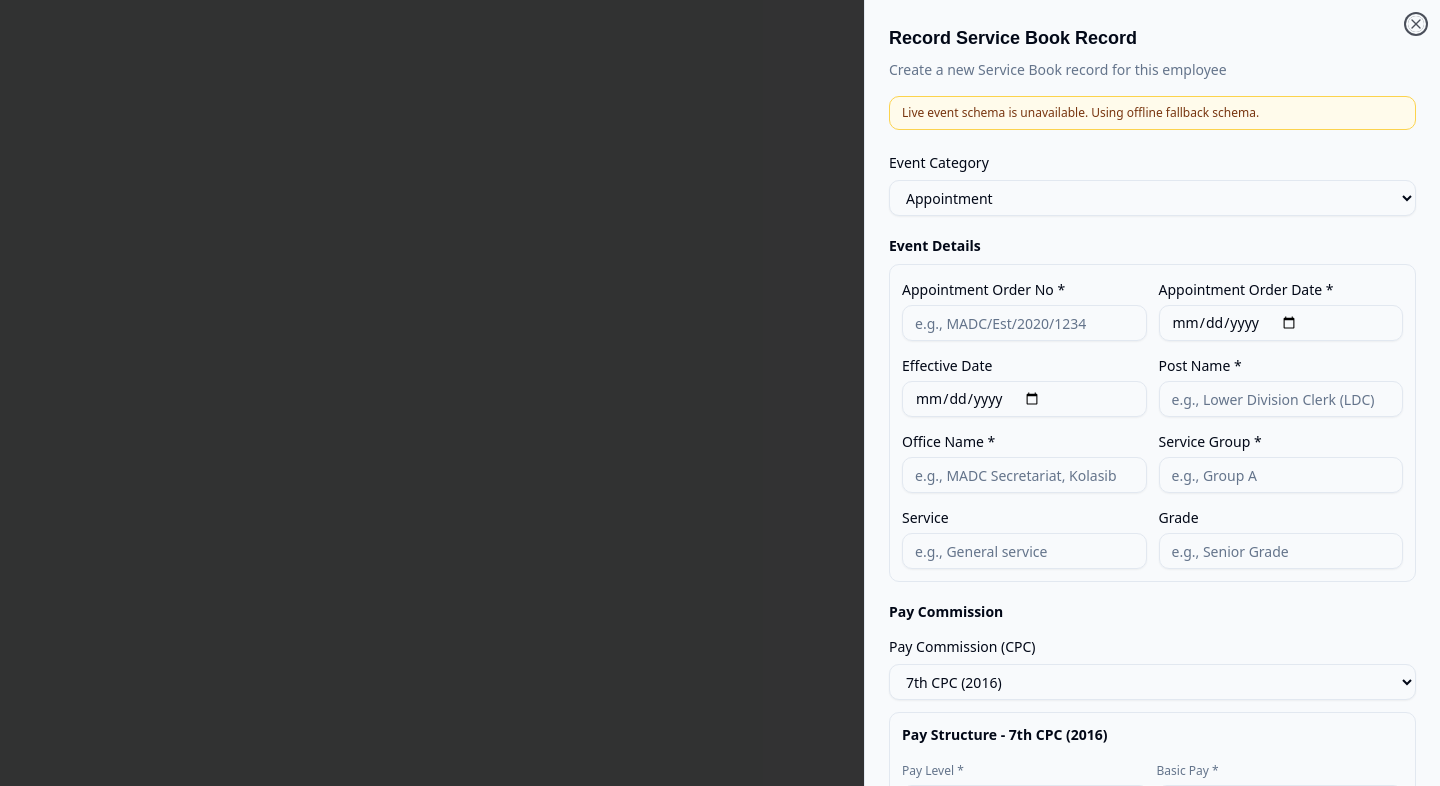
Test: RecordServiceBookRecordDialog fallback mode › keeps the upload section available after switching categories
Select "Custom" in the dropdown labelled "Event Category" at x=1152, y=198, box [889,180,1416,216]
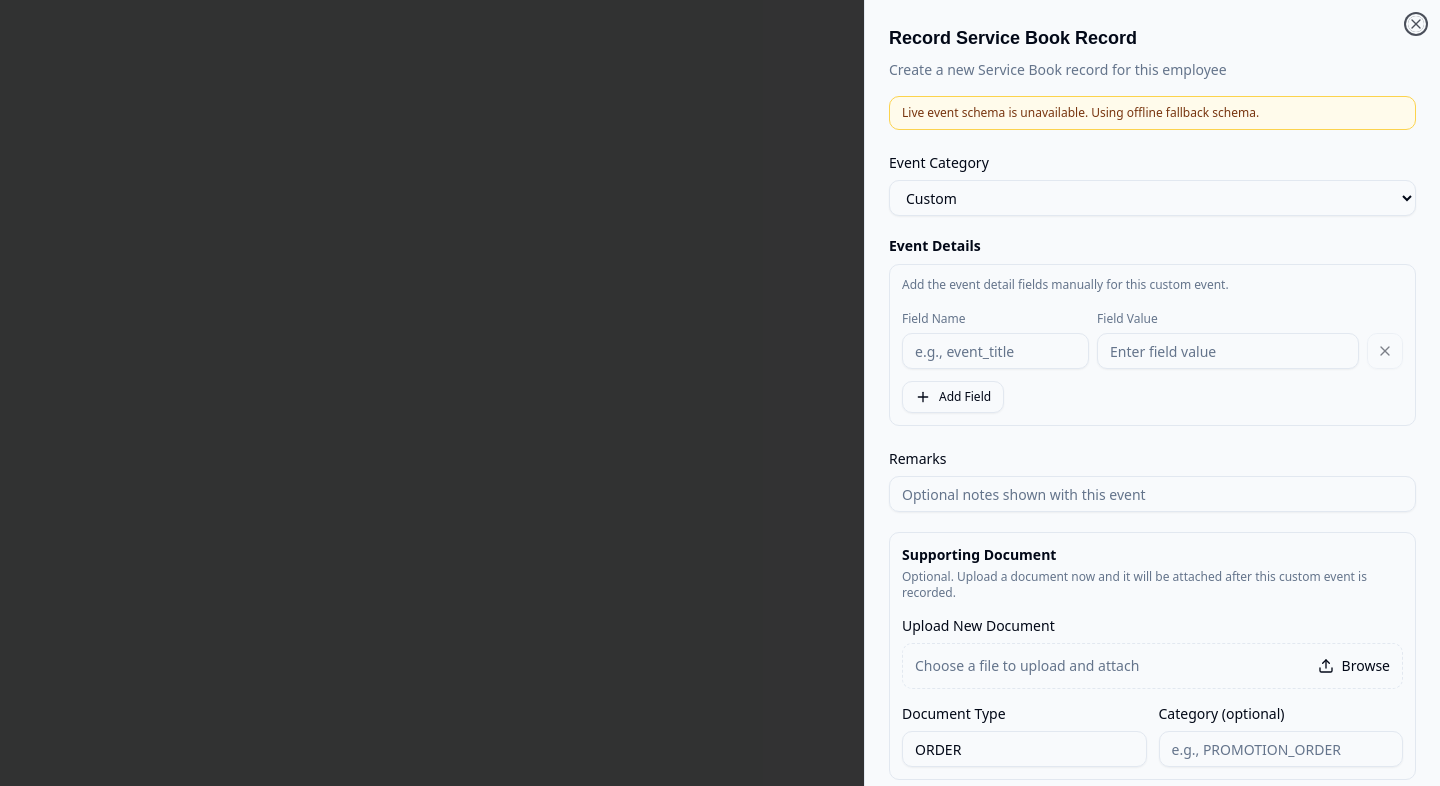
Now the text "Add the event detail fields manually for this custom event." is shown, box [902,276,1229,293]
Now the file field labelled "Upload New Document" is shown, box [902,616,1055,635]
Now the field labelled "Document Type" holds "ORDER", box [902,731,1146,767]
